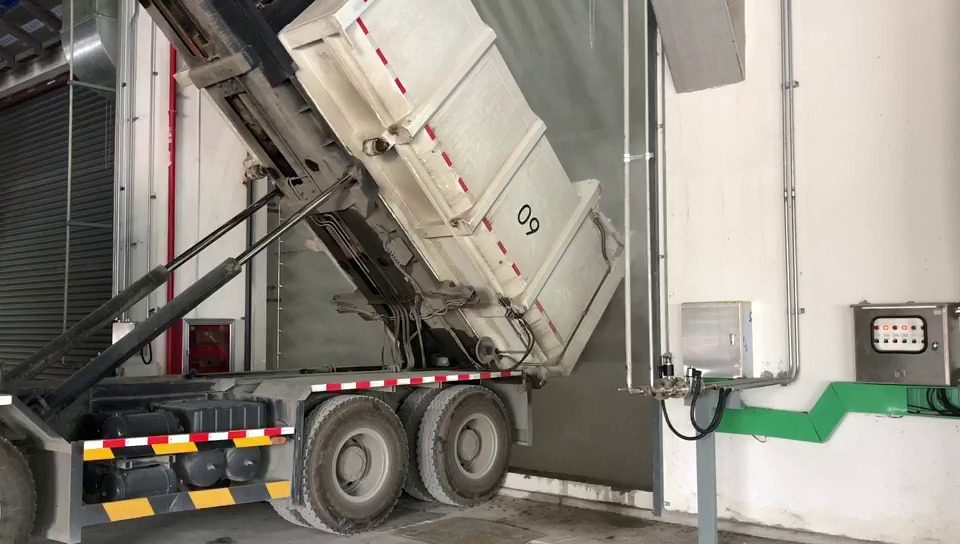truck: (0, 0, 639, 534)
